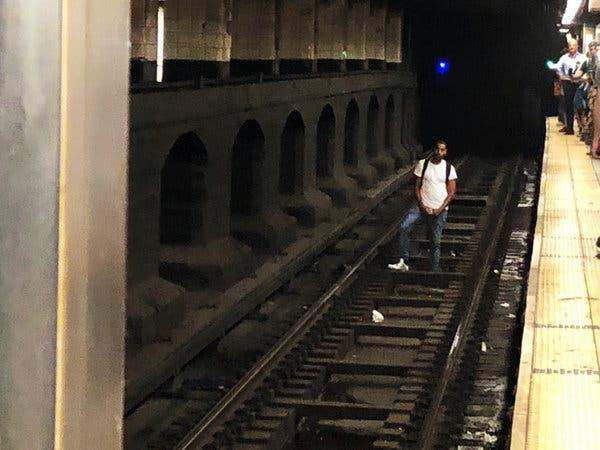person: (386, 133, 458, 273), (558, 36, 585, 135)
